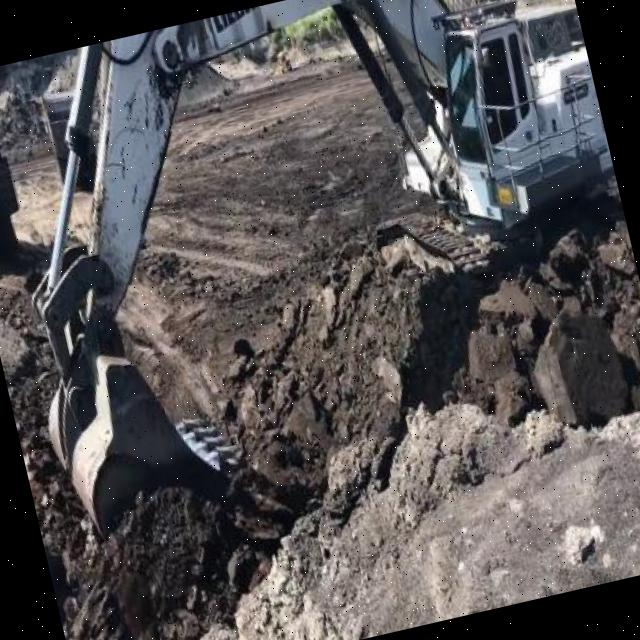Dump Truck: (0, 108, 43, 269), (36, 88, 102, 190)
Excavator: (0, 0, 640, 573)
